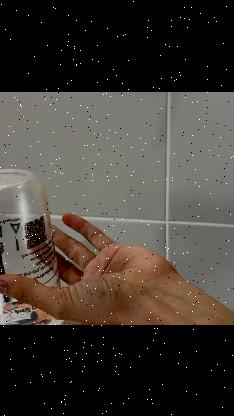Others: (0, 167, 61, 325)
